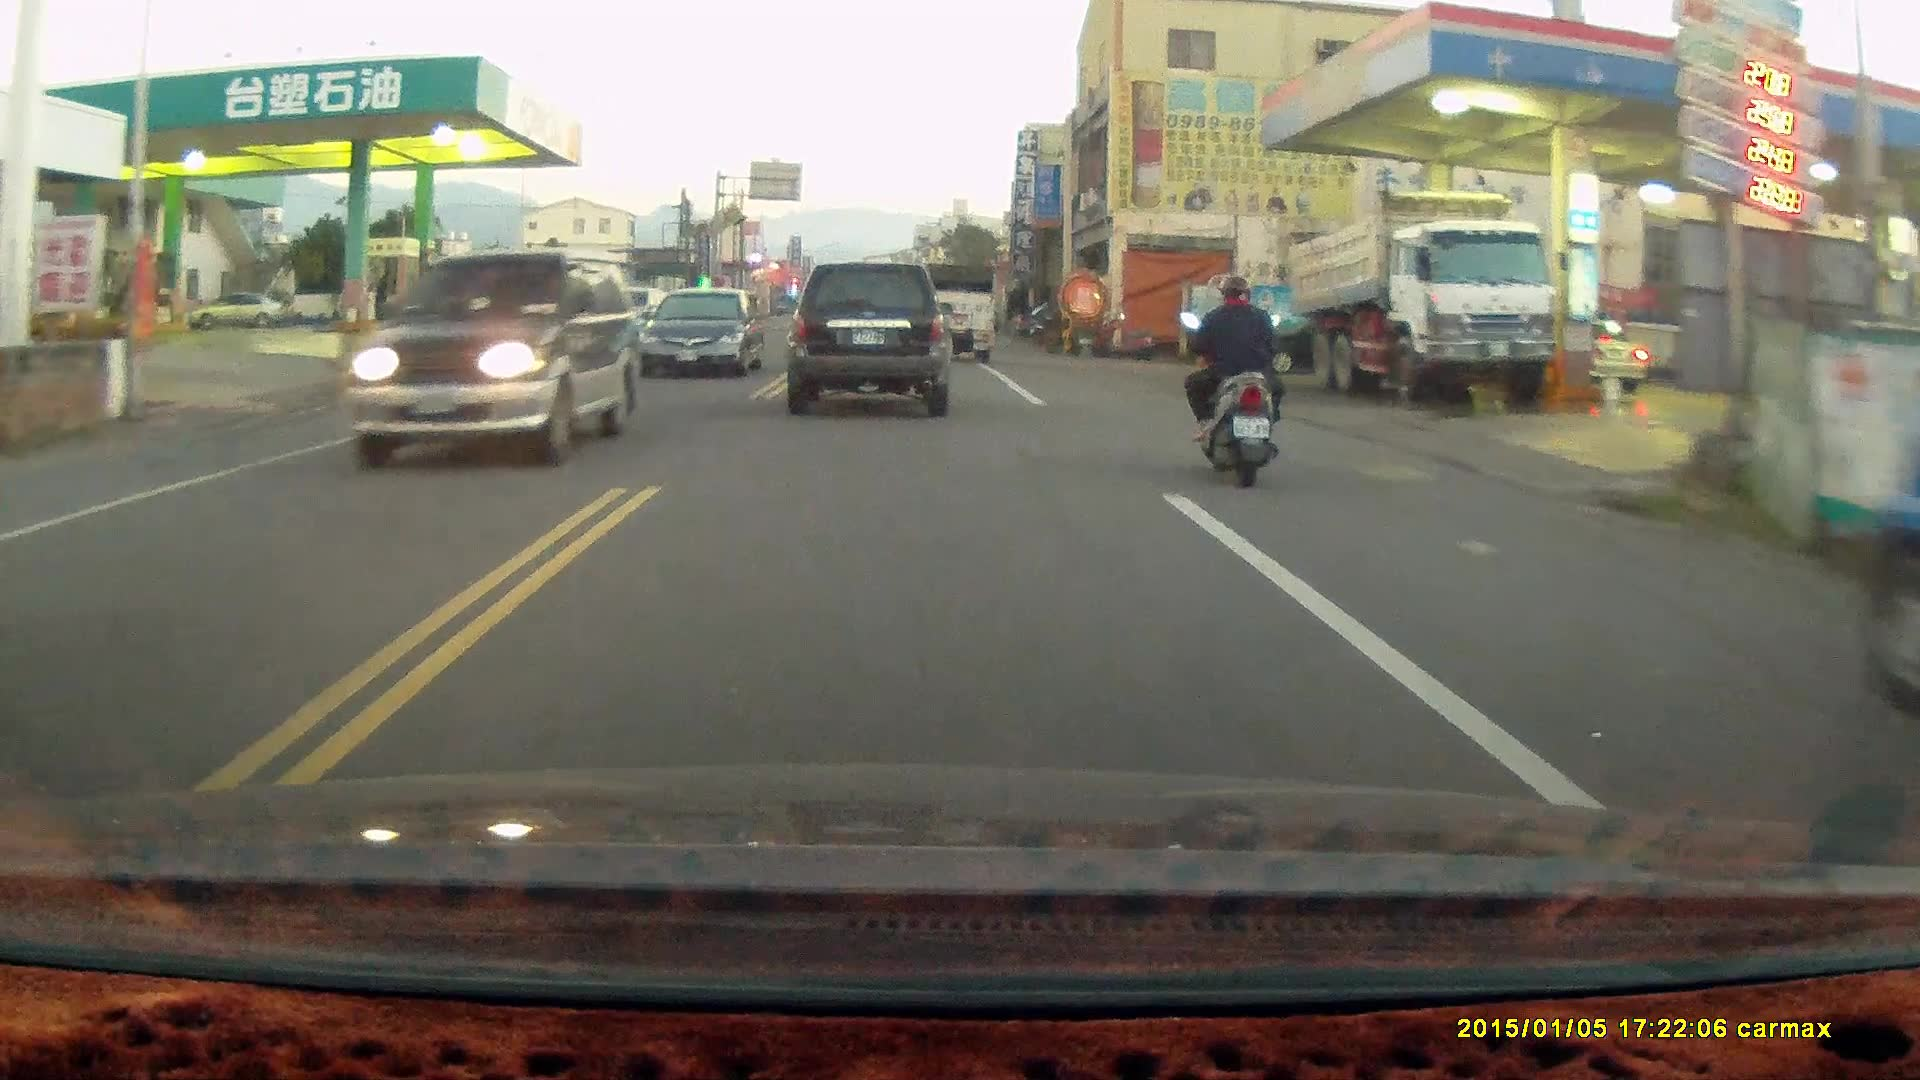rider: (1179, 273, 1286, 491)
vehicle: (341, 244, 644, 465), (1284, 187, 1560, 406), (791, 260, 954, 417), (642, 288, 770, 381), (903, 252, 995, 351)
